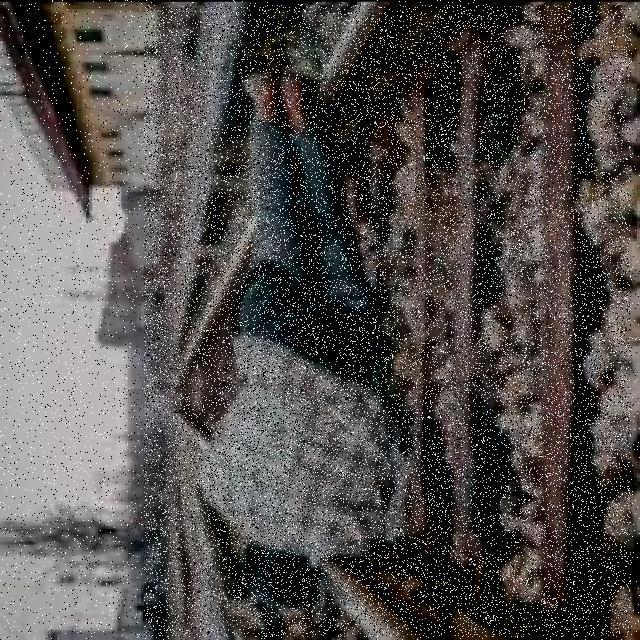danger: (228, 66, 383, 616)
rail: (145, 6, 631, 637)
